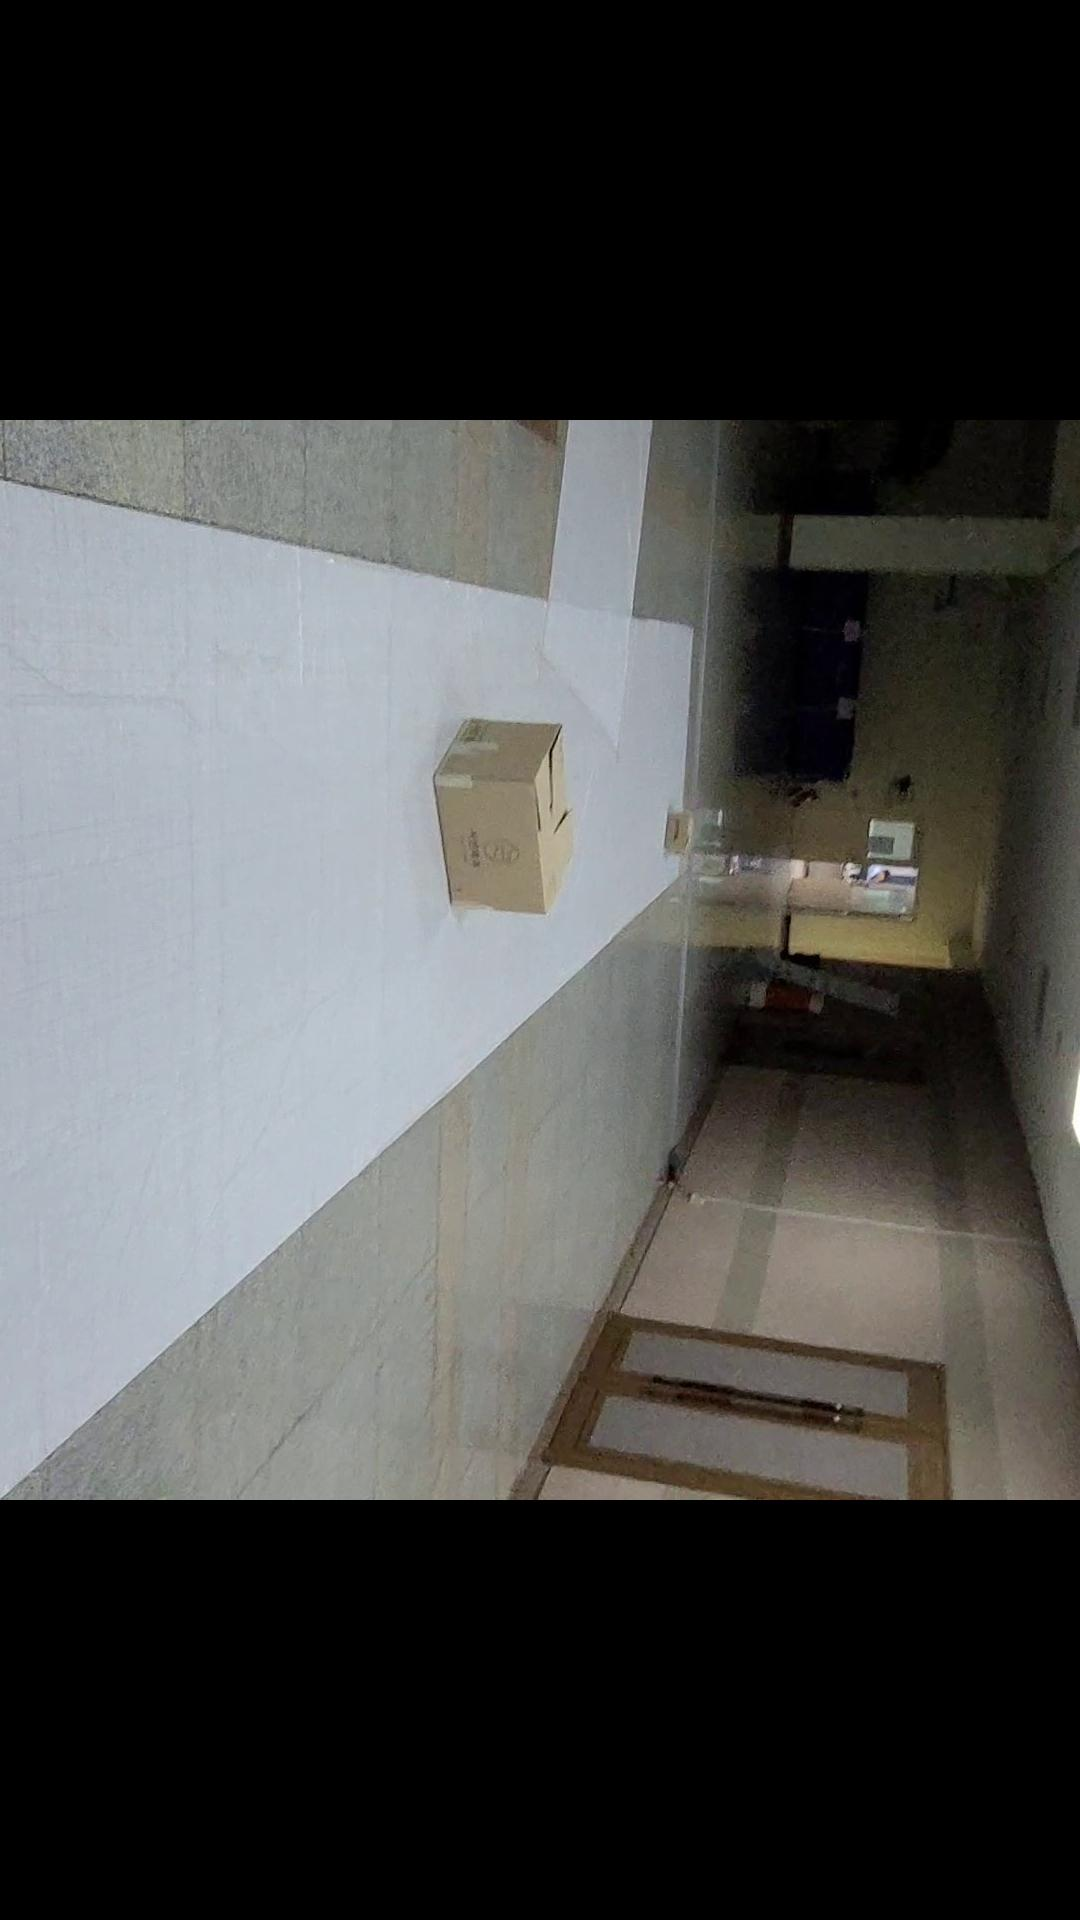Box: (411, 713, 572, 938), (640, 798, 707, 891)
